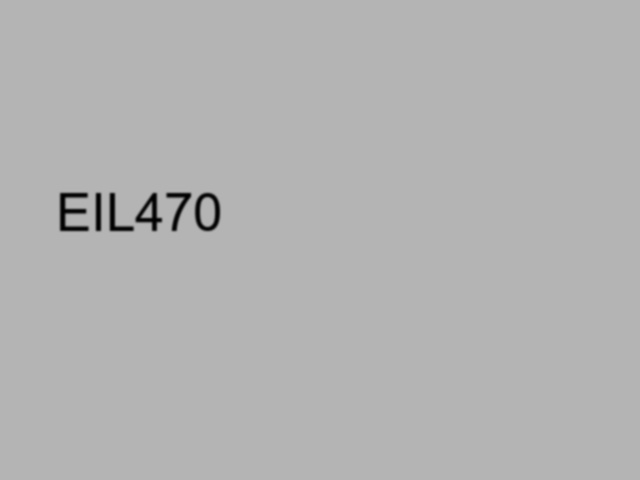OCR_AREA: (52, 189, 226, 235)
